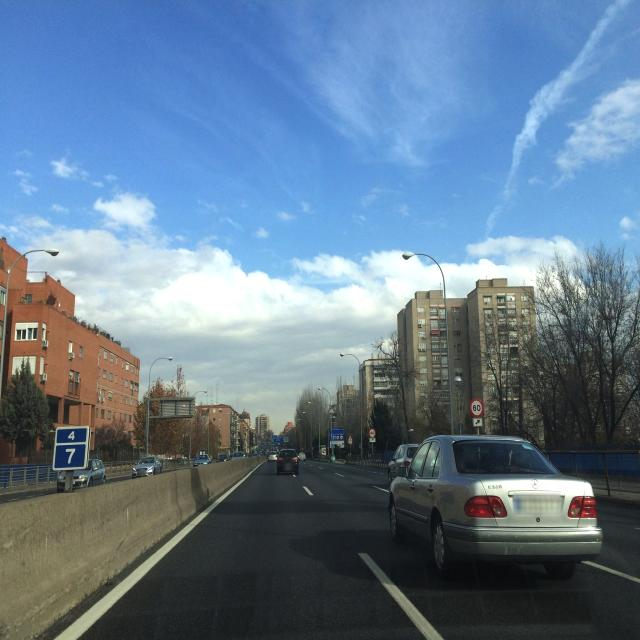car: (388, 432, 604, 580), (56, 458, 106, 492), (387, 443, 422, 484), (276, 448, 300, 476), (131, 457, 161, 478), (192, 455, 211, 465), (217, 452, 229, 462)
